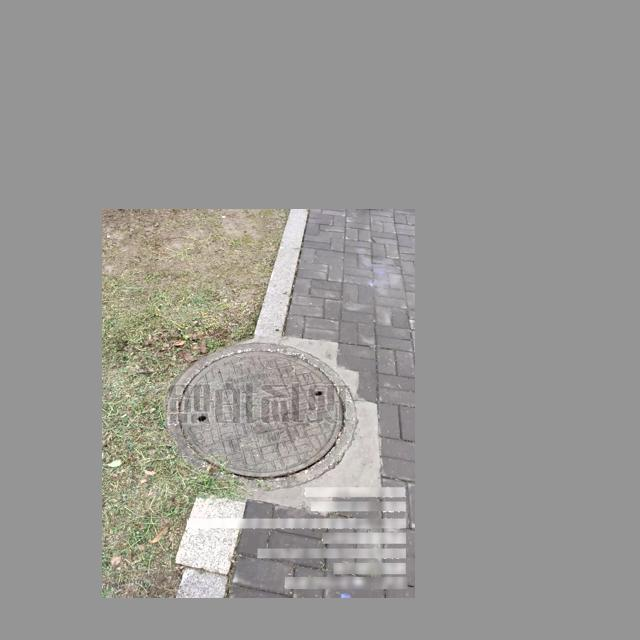good: (169, 343, 357, 489)
